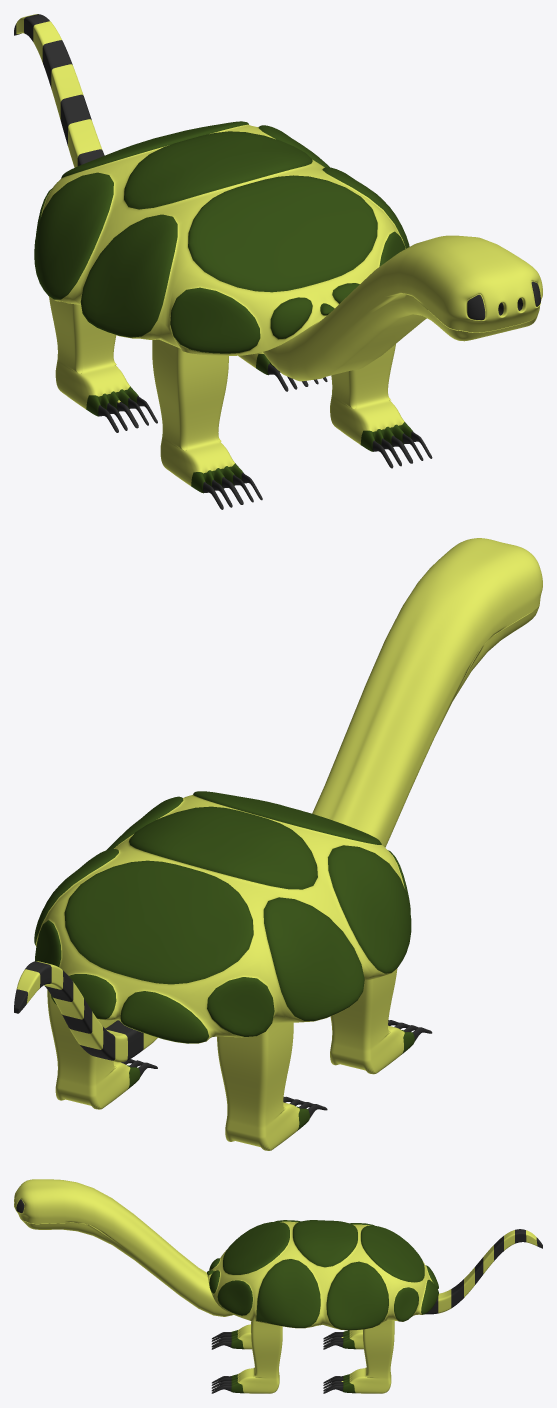
The model's file is yirtici_ayak_ve_yilan.fbx.
3 views of the same model, one above another, from view 1: azimuth 30°, elevation 25°; view 2: azimuth 150°, elevation 25°; view 3: azimuth 270°, elevation 25° (orthographic). The views are drawn at different scales.
Visible parts, largest first — view 1: Plane, Cube, Cube.001, Cube.002, Cube.000; view 2: Plane, Cube, Cube.002, Cube.001, Cube.000; view 3: Plane, Cube, Cube.001, Cube.002, Cube.000.
Boxes of the visible parts, left/top/right/bottom form: Plane: left=34, top=121, right=409, bottom=355; Cube: left=263, top=235, right=542, bottom=381; Cube.001: left=152, top=339, right=432, bottom=509; Cube.002: left=49, top=297, right=327, bottom=432; Cube.000: left=14, top=14, right=104, bottom=167; Plane: left=34, top=791, right=411, bottom=1043; Cube: left=312, top=538, right=542, bottom=847; Cube.002: left=47, top=989, right=327, bottom=1150; Cube.001: left=330, top=968, right=432, bottom=1074; Cube.000: left=14, top=961, right=157, bottom=1062; Plane: left=207, top=1220, right=438, bottom=1330; Cube: left=14, top=1179, right=233, bottom=1316; Cube.001: left=211, top=1321, right=282, bottom=1393; Cube.002: left=323, top=1320, right=394, bottom=1393; Cube.000: left=425, top=1229, right=542, bottom=1314.
Bounding box in the file's own units: 552 × 591 × 1553.
